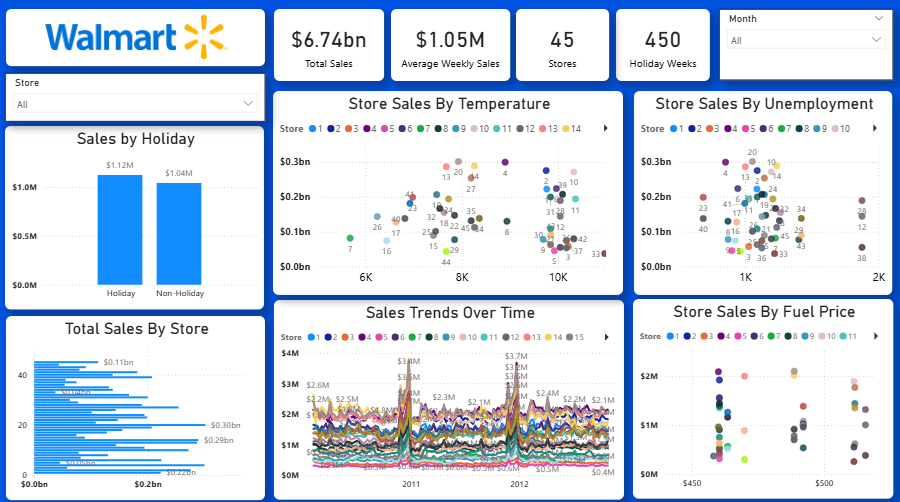

The dashboard page shown, as its layout file describes it:
{"tool":"powerbi","page":{"name":"New Dashboard","canvas":[1280,720],"ordinal":10},"visuals":[{"type":"textbox","box":[9.9,18.4,367.1,80.8],"z":0},{"type":"image","box":[52.4,18.4,283.5,80.8],"z":1000},{"type":"columnChart","title":"Sales by Holiday","fields":{"Category":["Walmart_Sales_Cleaned.Holiday_Label"],"Y":["Avg(Walmart_Sales_Cleaned.Weekly_Sales)"]},"box":[8.6,184.3,367.1,260],"z":2000},{"type":"clusteredBarChart","title":"Total Sales By Store","fields":{"Category":["Walmart_Sales_Cleaned.Store"],"Y":["Sum(Walmart_Sales_Cleaned.Weekly_Sales)"]},"box":[10,452.9,367.1,261.4],"z":3000},{"type":"lineChart","title":"Sales Trends Over Time","fields":{"Category":["Walmart_Sales_Cleaned.Date.Variation.Date Hierarchy.Year","Walmart_Sales_Cleaned.Date.Variation.Date Hierarchy.Quarter","Walmart_Sales_Cleaned.Date.Variation.Date Hierarchy.Month","Walmart_Sales_Cleaned.Date.Variation.Date Hierarchy.Day"],"Y":["Sum(Walmart_Sales_Cleaned.Weekly_Sales)"],"Series":["Walmart_Sales_Cleaned.Store"]},"box":[389.8,430.9,496.1,283.5],"z":4000},{"type":"scatterChart","title":"Store Sales By Unemployment","fields":{"X":["Sum(Walmart_Sales_Cleaned.Unemployment)"],"Y":["Sum(Walmart_Sales_Cleaned.Weekly_Sales)"],"Series":["Walmart_Sales_Cleaned.Store"]},"box":[900,134.6,365.7,289.1],"z":5000},{"type":"scatterChart","title":"Store Sales By Temperature","fields":{"X":["Sum(Walmart_Sales_Cleaned.Temperature)"],"Y":["Sum(Walmart_Sales_Cleaned.Weekly_Sales)"],"Series":["Walmart_Sales_Cleaned.Store"]},"box":[388.3,134.6,496.1,289.1],"z":6000},{"type":"scatterChart","title":"Store Sales By Fuel Price","fields":{"X":["Sum(Walmart_Sales_Cleaned.Fuel_Price)"],"Y":["Avg(Walmart_Sales_Cleaned.Weekly_Sales)"],"Series":["Walmart_Sales_Cleaned.Store"]},"box":[898.6,429.4,368.5,283.5],"z":7000},{"type":"card","fields":{"Values":["Sum(Walmart_Sales_Cleaned.Weekly_Sales)"]},"box":[389.8,18.4,155.9,102],"z":8000},{"type":"card","fields":{"Values":["CountNonNull(Walmart_Sales_Cleaned.Holiday_Flag)"]},"box":[874.5,18.4,133.2,102],"z":9000},{"type":"card","fields":{"Values":["Avg(Walmart_Sales_Cleaned.Weekly_Sales)"]},"box":[555.6,18.4,168.7,102],"z":10000},{"type":"card","fields":{"Values":["Count(Walmart_Sales_Cleaned.Store)"]},"box":[732.8,18.4,131.8,102],"z":11000},{"type":"slicer","fields":{"Values":["Walmart_Sales_Cleaned.Store"]},"box":[8.6,108.6,368.6,68.6],"z":12000},{"type":"slicer","fields":{"Values":["Walmart_Sales_Cleaned.Month"]},"box":[1020,18.6,247.1,101.4],"z":13000}]}

Visuals, with their boxes in screenshot pixels (x1, y1, x2, y2), scaled from the page's 1280x720 canvas onto the 900x502 screenshot:
textbox: (7,13,265,69)
image: (37,13,236,69)
"Sales by Holiday" columnChart: (6,128,264,310)
"Total Sales By Store" clusteredBarChart: (7,316,265,498)
"Sales Trends Over Time" lineChart: (274,300,623,498)
"Store Sales By Unemployment" scatterChart: (633,94,890,295)
"Store Sales By Temperature" scatterChart: (273,94,622,295)
"Store Sales By Fuel Price" scatterChart: (632,299,891,497)
card - Sum(Walmart_Sales_Cleaned.Weekly_Sales): (274,13,384,84)
card - CountNonNull(Walmart_Sales_Cleaned.Holiday_Flag): (615,13,709,84)
card - Avg(Walmart_Sales_Cleaned.Weekly_Sales): (391,13,509,84)
card - Count(Walmart_Sales_Cleaned.Store): (515,13,608,84)
slicer - Walmart_Sales_Cleaned.Store: (6,76,265,124)
slicer - Walmart_Sales_Cleaned.Month: (717,13,891,84)
